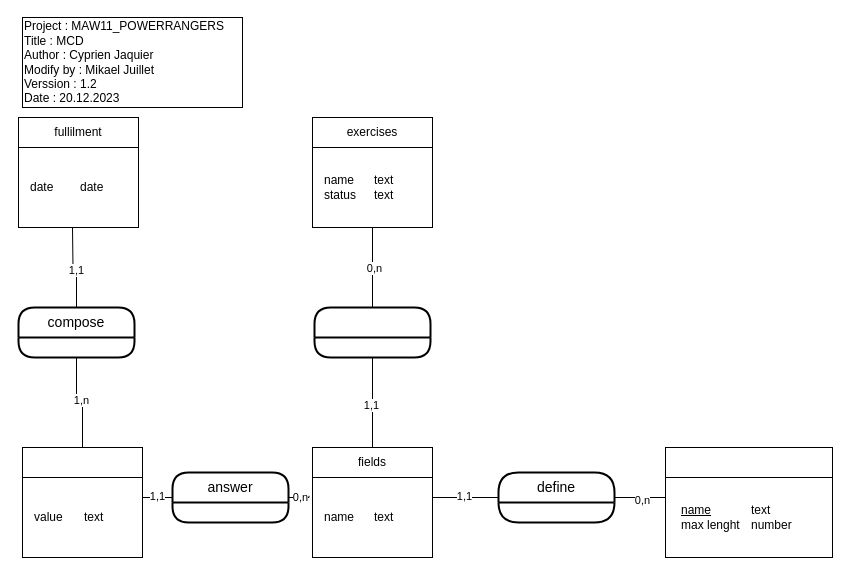
The diagram is 850 pixels wide and 575 high, and some of its shapes have lost their labels. The shapes that lost their labels are listed below. From the top down, each one's centre as x and y in pixels, then its label:
At [372,332]: "contain".
At [82,462]: "answers".
At [748,462]: "fieldTypes".
